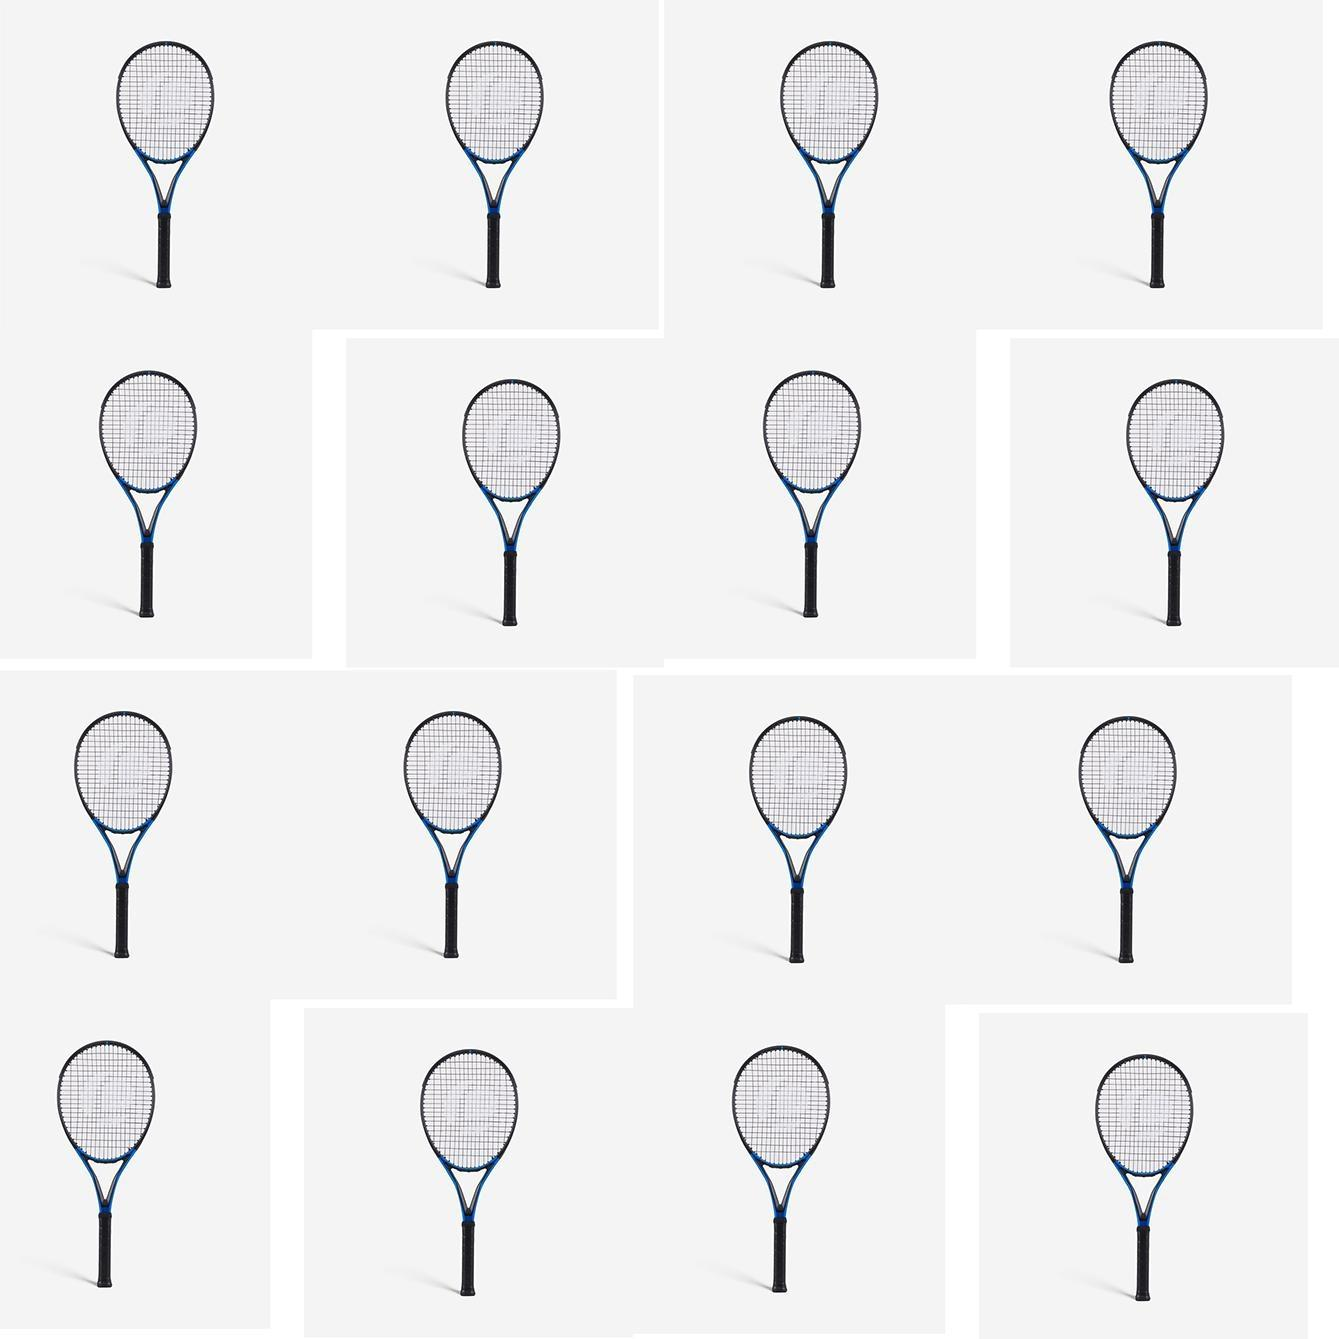Tennis-Racket: (460, 379, 560, 628), (1107, 42, 1204, 292), (403, 710, 499, 961), (446, 42, 542, 292), (1127, 381, 1224, 628), (421, 1050, 517, 1295), (76, 710, 170, 960), (780, 42, 874, 292), (1079, 716, 1173, 966), (749, 716, 844, 966), (99, 372, 194, 620), (1095, 1055, 1191, 1300), (118, 42, 211, 293), (765, 372, 860, 619), (58, 1041, 152, 1287), (732, 1046, 826, 1291)
